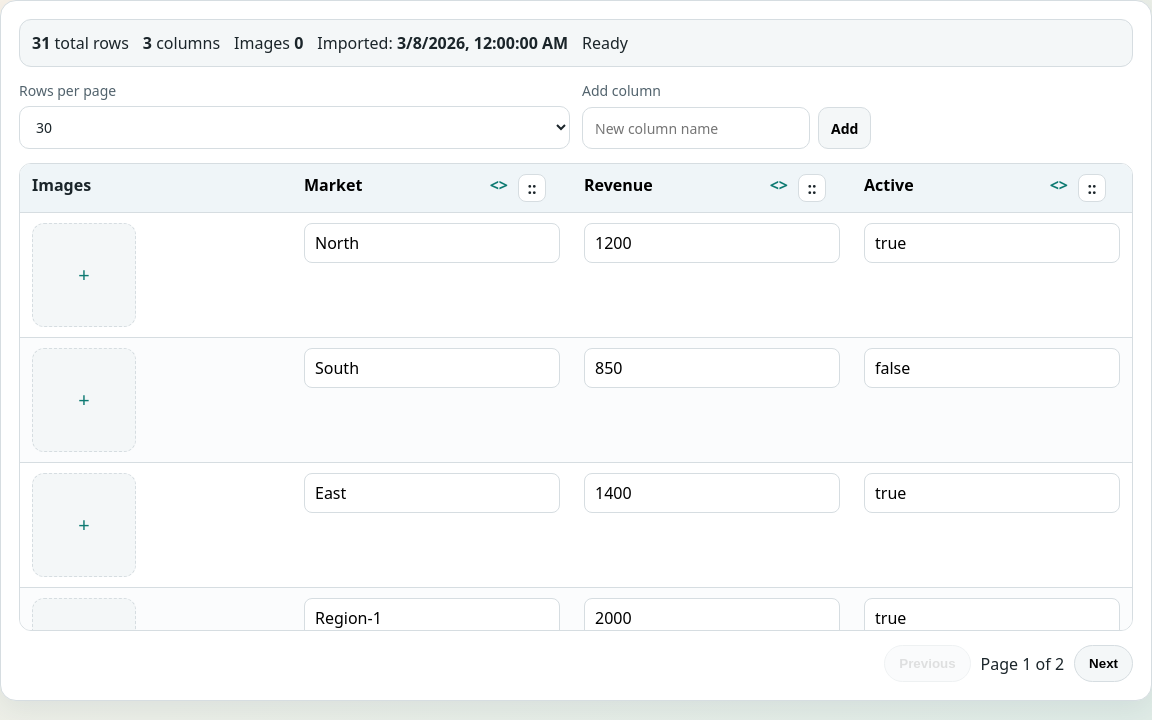
TamTable › supports sorting and pagination controls
Click the button with aria-label "Sort by Revenue" at (686,185), box left=584, top=174, right=788, bottom=196
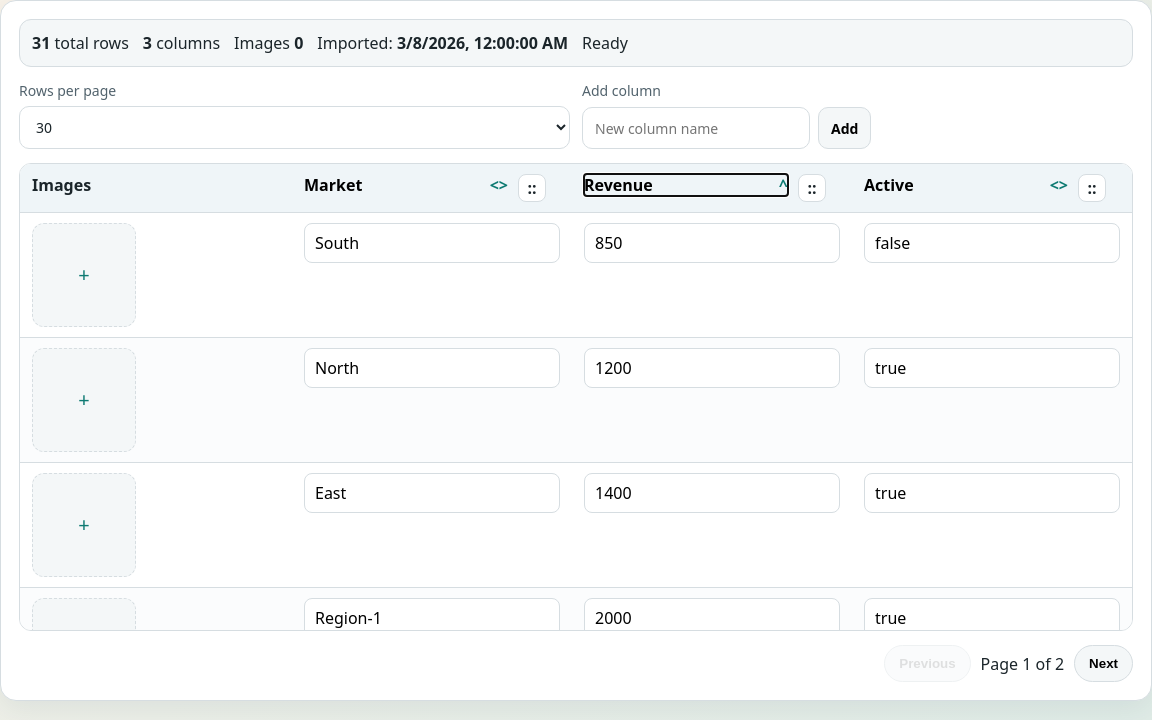
Expected: the 1st field showing "South" is shown, left=304, top=223, right=560, bottom=263
Expected: the text "Page 1 of 2" is shown, left=981, top=652, right=1064, bottom=674
Click the button "Next" at (1104,664), box left=1074, top=645, right=1133, bottom=682
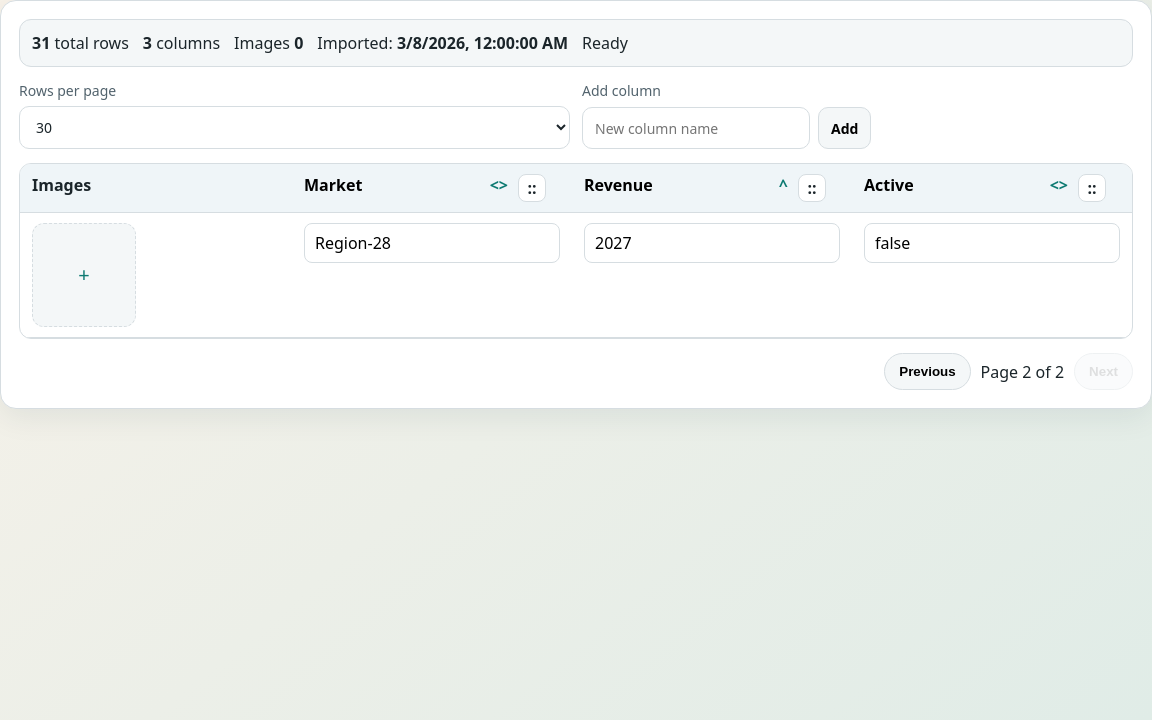
Expected: the text "Page 2 of 2" is shown, left=981, top=360, right=1064, bottom=382
